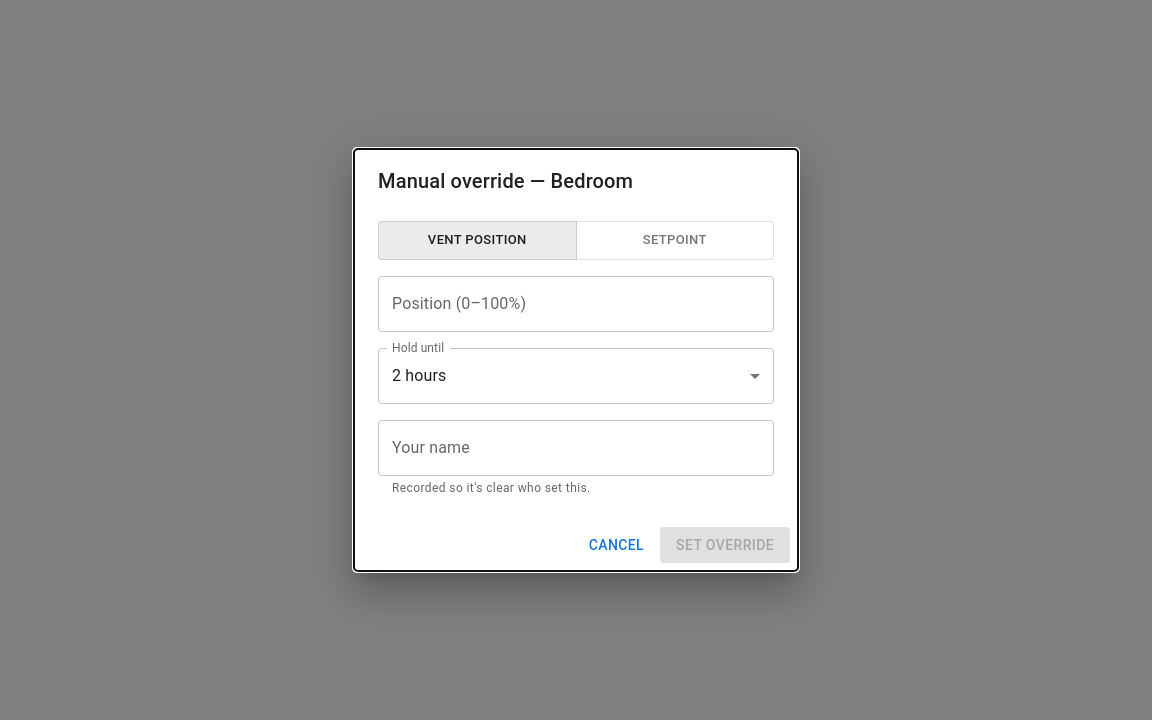
Test: ZoneOverrideDialog › switching to Setpoint changes the field label and value units, and submits the setpoint kind
Click the button "Setpoint": click(675, 240) [576, 221, 774, 260]
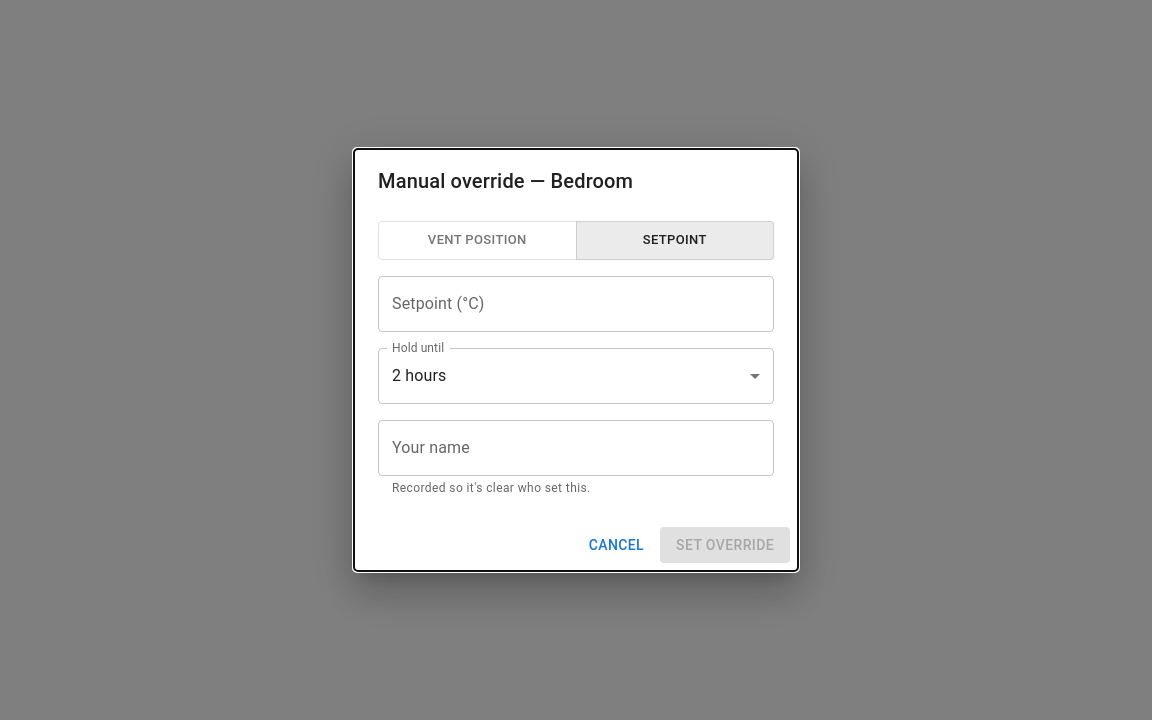
In the number field labelled "Setpoint (°C)": (576, 304) [378, 276, 774, 332], type "21"
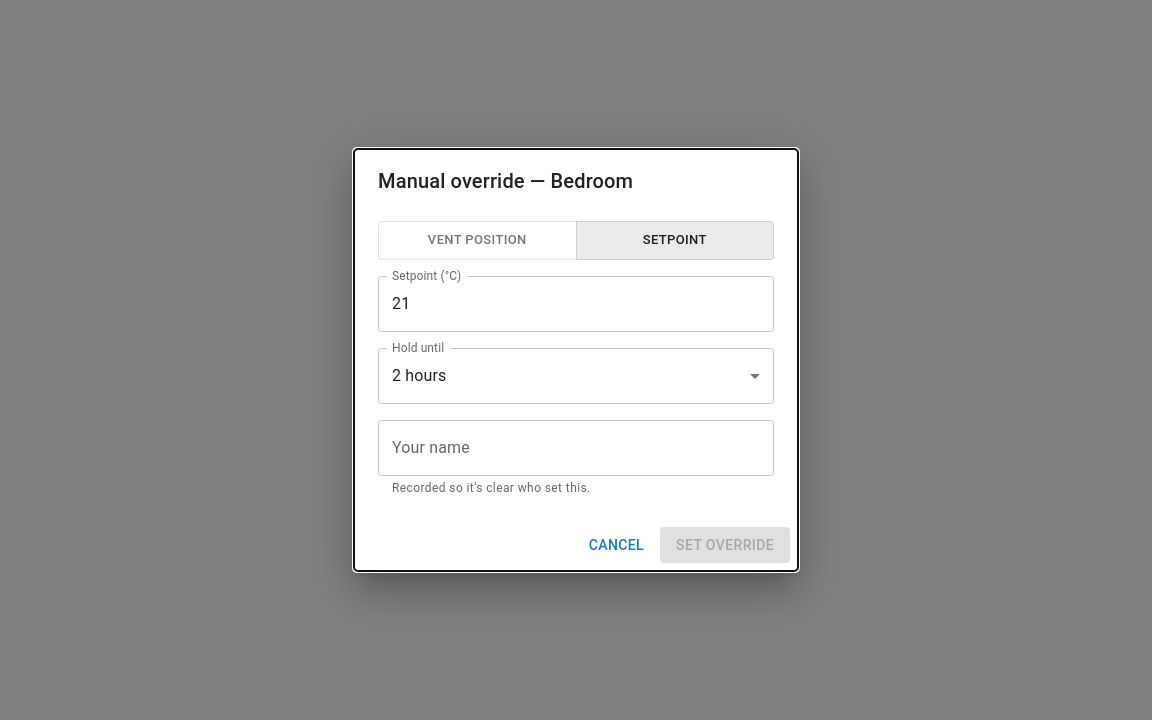
In the field labelled "Your name": (576, 448) [378, 420, 774, 476], type "Martin"
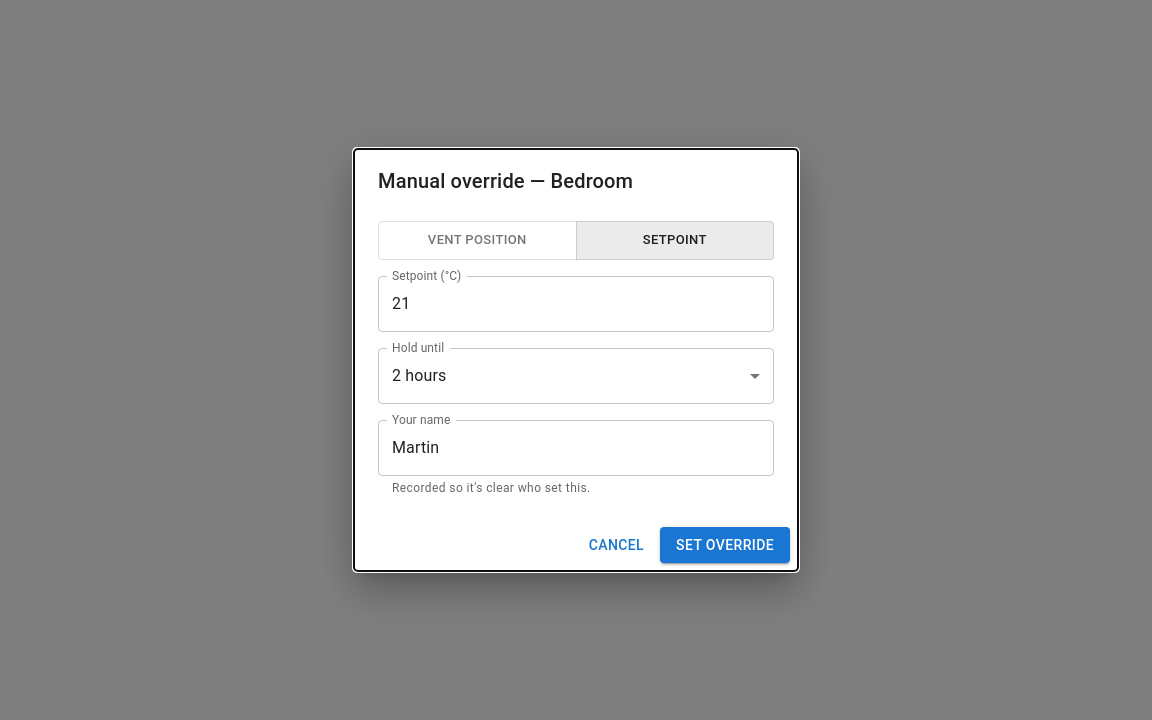
Click the button "Set override": click(725, 545) [660, 527, 790, 563]
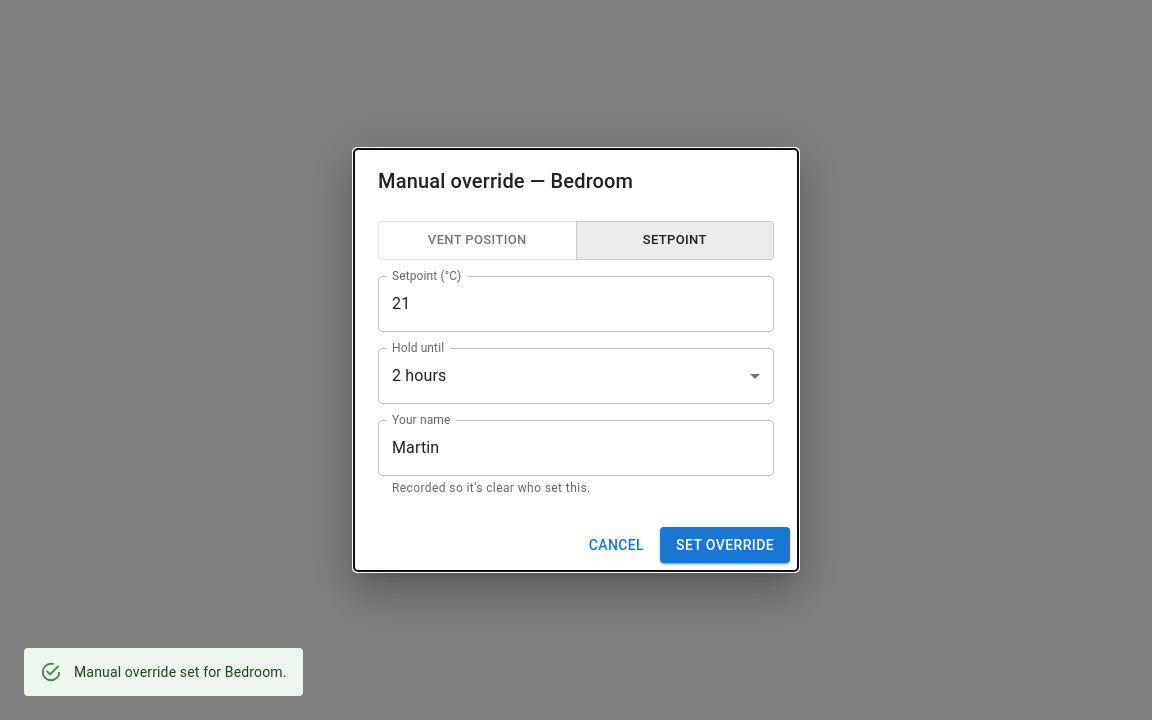
expect the text "Manual override set for Bedroom." is shown: met, box [74, 664, 287, 680]
